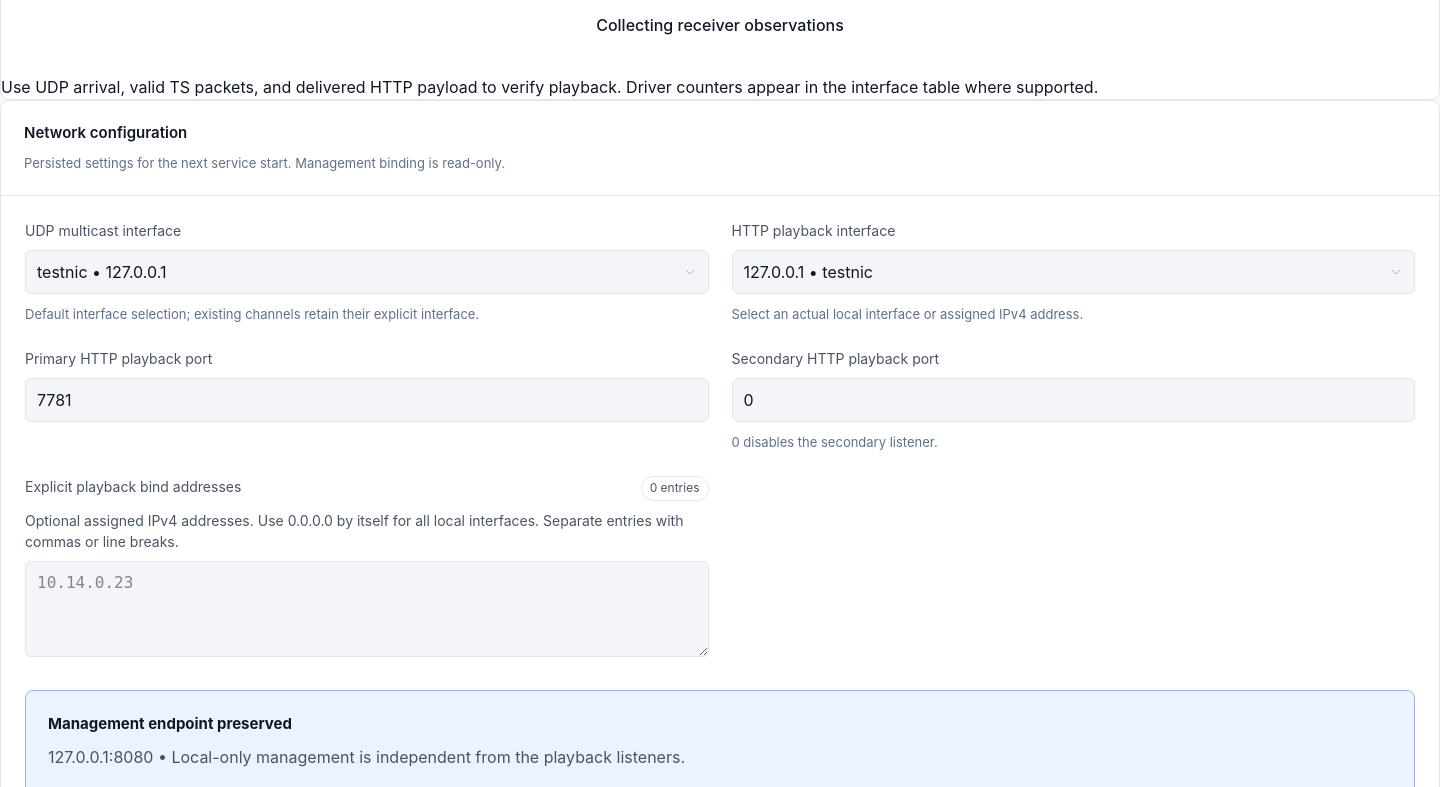
Test: Network safety and operational logs › keeps the network draft and review dialog after a failed persistence attempt
(page scrolled)
Replace the text in the number field labelled "Primary HTTP playback port" with "7790" at (367, 400), box [25,378,708,422]
(page scrolled)
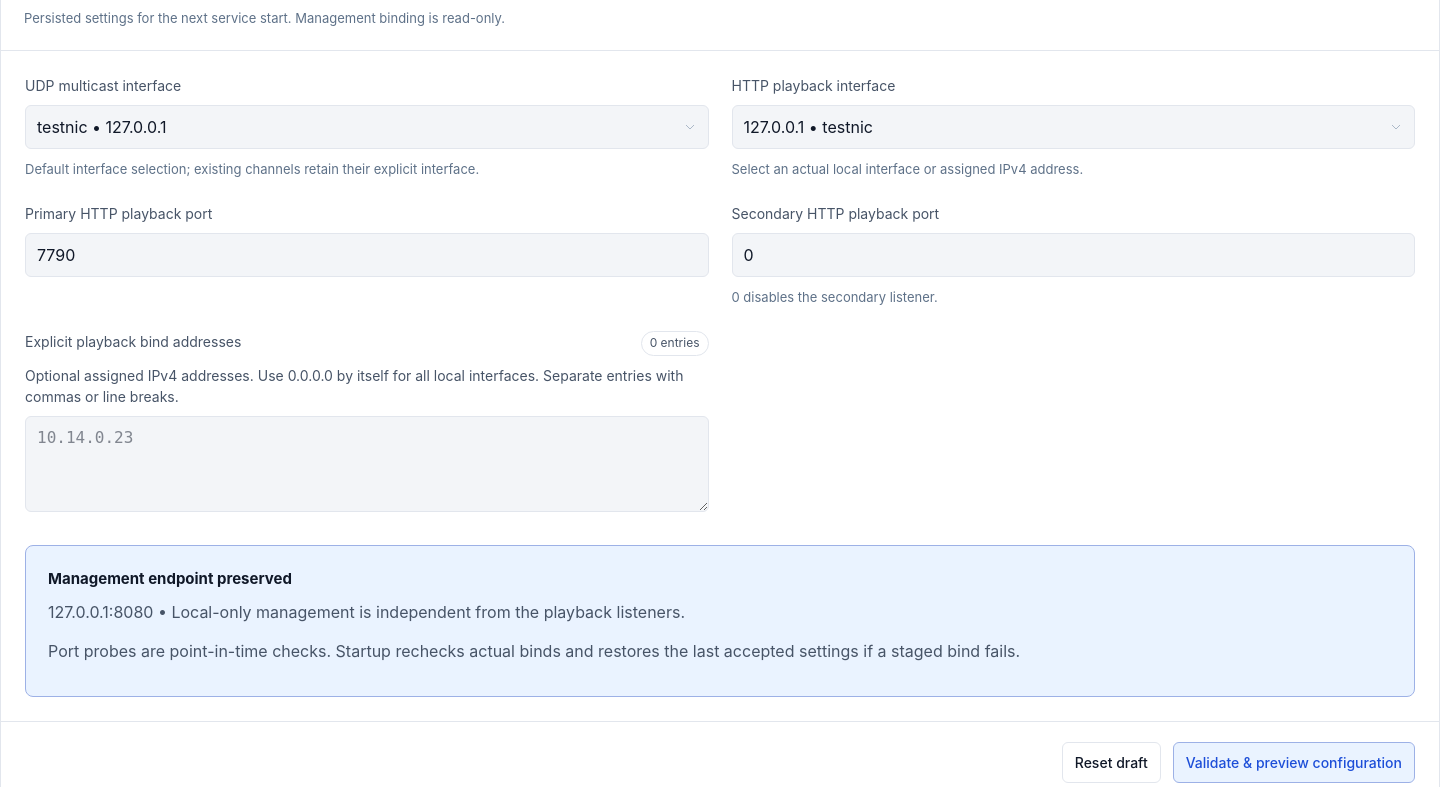
Click the button "Validate & preview configuration" at (1294, 763), box [1173,742,1415,783]
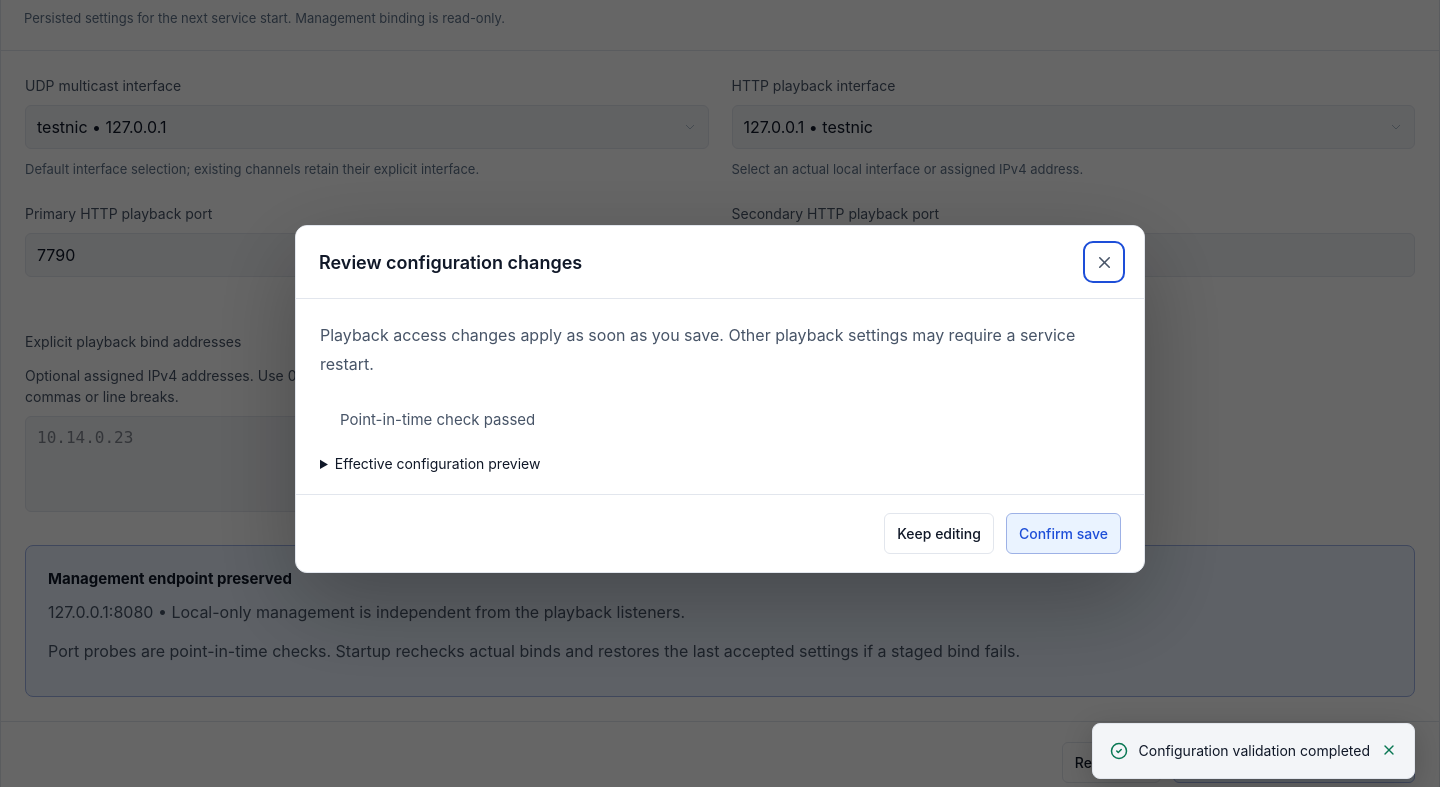
Result: the dialog is shown at [295,225,1145,573]
Click the button "Confirm save" at (1063, 533), box [1006,513,1121,554]
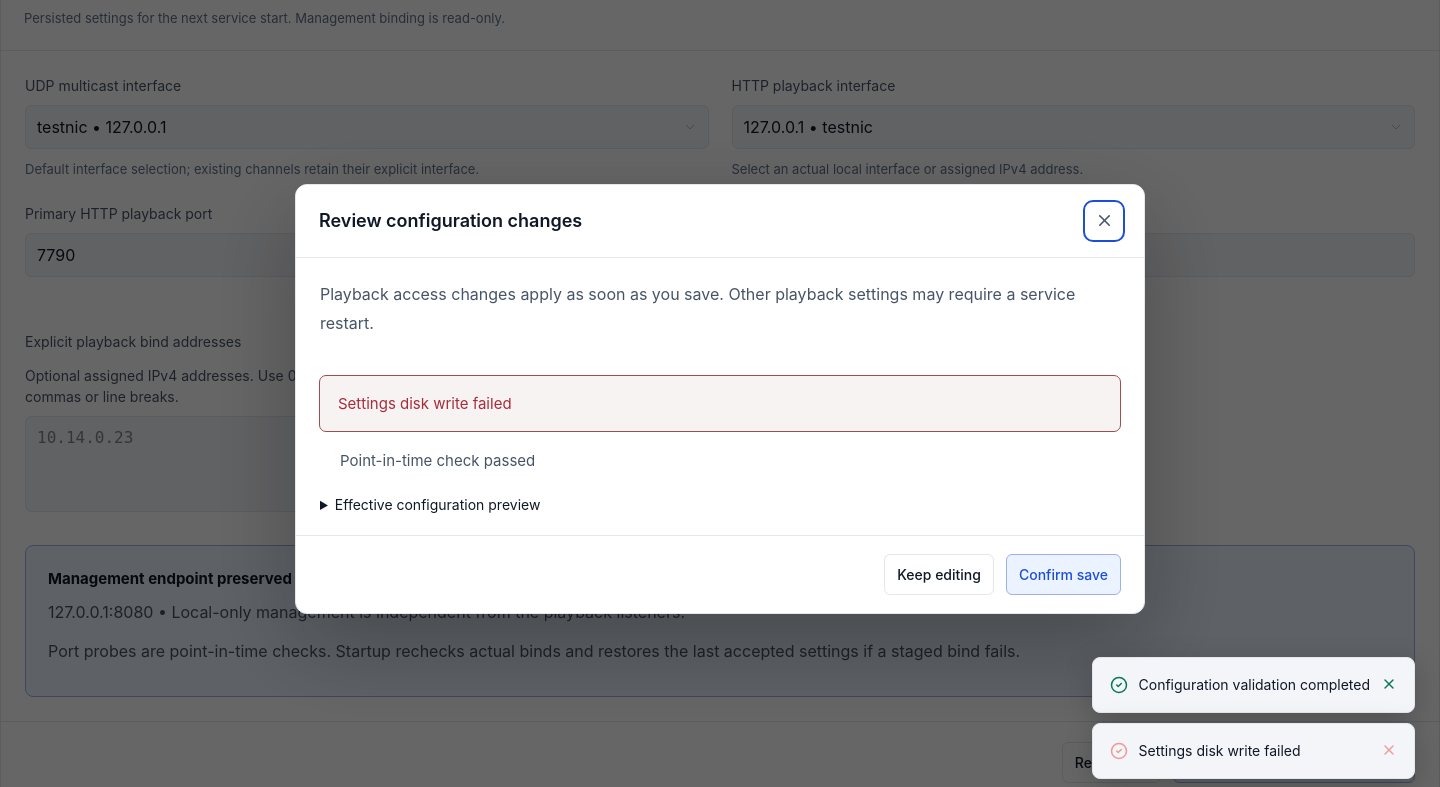
Result: the dialog is shown at [295,184,1145,614]
Result: the text "Settings disk write failed" is shown at [1138,739,1300,763]
